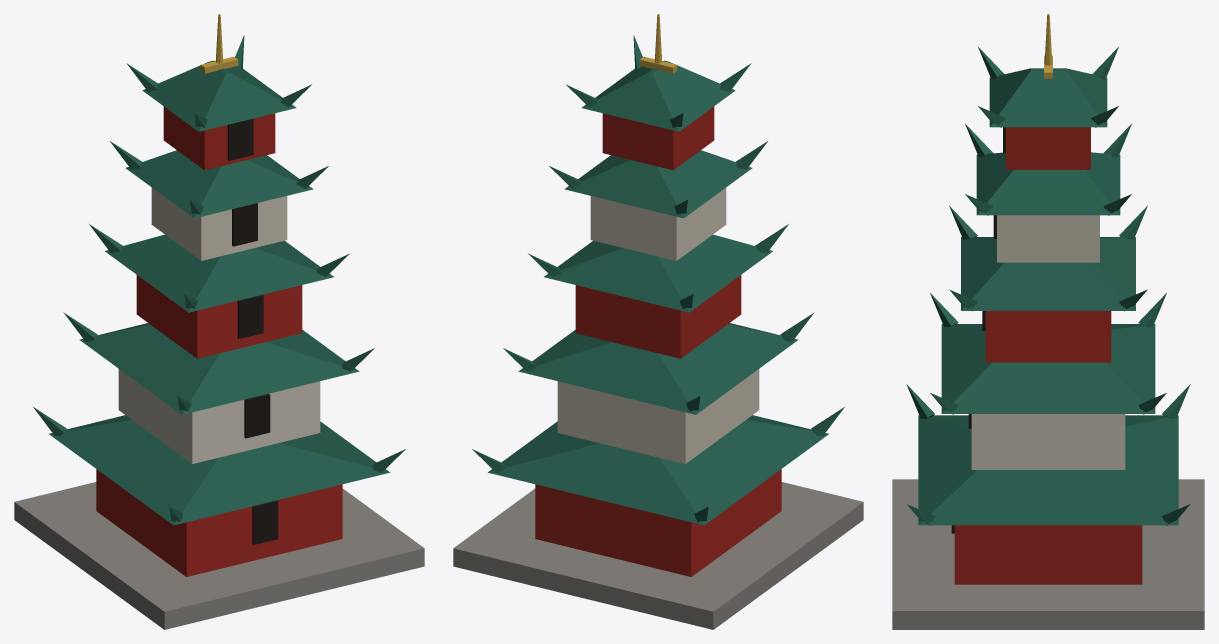
File: dragon_landmark_broken.glb
The picture shows the model from 3 angles, left to right: view 1: azimuth 30°, elevation 25°; view 2: azimuth 150°, elevation 25°; view 3: azimuth 270°, elevation 25°; orthographic projection. The views are drawn at different scales.
Parts seen in each view (by area): view 1: dragon_landmark_piece9, dragon_landmark_piece4, dragon_landmark_piece7, dragon_landmark_piece6, dragon_landmark_piece11, dragon_landmark_piece5, dragon_landmark_piece13, dragon_landmark_piece1, dragon_landmark_piece8, dragon_landmark_piece0, dragon_landmark_piece12, dragon_landmark_piece10 (+2 smaller); view 2: dragon_landmark_piece4, dragon_landmark_piece2, dragon_landmark_piece8, dragon_landmark_piece1, dragon_landmark_piece9, dragon_landmark_piece6, dragon_landmark_piece3, dragon_landmark_piece13, dragon_landmark_piece11, dragon_landmark_piece0, dragon_landmark_piece10; view 3: dragon_landmark_piece2, dragon_landmark_piece6, dragon_landmark_piece7, dragon_landmark_piece10, dragon_landmark_piece5, dragon_landmark_piece9, dragon_landmark_piece8, dragon_landmark_piece3, dragon_landmark_piece1, dragon_landmark_piece4, dragon_landmark_piece11, dragon_landmark_piece13 (+1 smaller).
Boxes of the visible parts, x1,y1,x2,y2 form: dragon_landmark_piece9: (99, 386, 329, 629); dragon_landmark_piece4: (14, 336, 176, 584); dragon_landmark_piece7: (274, 330, 424, 589); dragon_landmark_piece6: (169, 14, 328, 247); dragon_landmark_piece11: (136, 238, 294, 437); dragon_landmark_piece5: (262, 175, 405, 488); dragon_landmark_piece13: (132, 199, 251, 359); dragon_landmark_piece1: (33, 196, 218, 414); dragon_landmark_piece8: (126, 63, 196, 221); dragon_landmark_piece0: (39, 335, 149, 447); dragon_landmark_piece12: (212, 188, 299, 244); dragon_landmark_piece10: (248, 232, 285, 460); dragon_landmark_piece4: (616, 350, 801, 629); dragon_landmark_piece2: (453, 340, 643, 605); dragon_landmark_piece8: (528, 100, 724, 288); dragon_landmark_piece1: (578, 151, 755, 512); dragon_landmark_piece9: (716, 312, 863, 564); dragon_landmark_piece6: (549, 14, 751, 259); dragon_landmark_piece3: (472, 199, 694, 466); dragon_landmark_piece13: (649, 141, 788, 418); dragon_landmark_piece11: (688, 275, 786, 434); dragon_landmark_piece0: (668, 366, 752, 525); dragon_landmark_piece10: (539, 334, 603, 431); dragon_landmark_piece2: (929, 362, 1204, 629); dragon_landmark_piece6: (965, 14, 1131, 317); dragon_landmark_piece7: (892, 336, 1073, 629); dragon_landmark_piece10: (967, 261, 1113, 517); dragon_landmark_piece5: (906, 201, 1045, 525); dragon_landmark_piece9: (892, 293, 971, 562); dragon_landmark_piece8: (1052, 47, 1147, 354); dragon_landmark_piece3: (1086, 124, 1190, 516); dragon_landmark_piece1: (976, 135, 1190, 396); dragon_landmark_piece4: (1125, 415, 1204, 535); dragon_landmark_piece11: (943, 235, 996, 380); dragon_landmark_piece13: (949, 124, 1111, 327).
Size of the model in its own units: 3.6 by 6.99 by 3.6.
